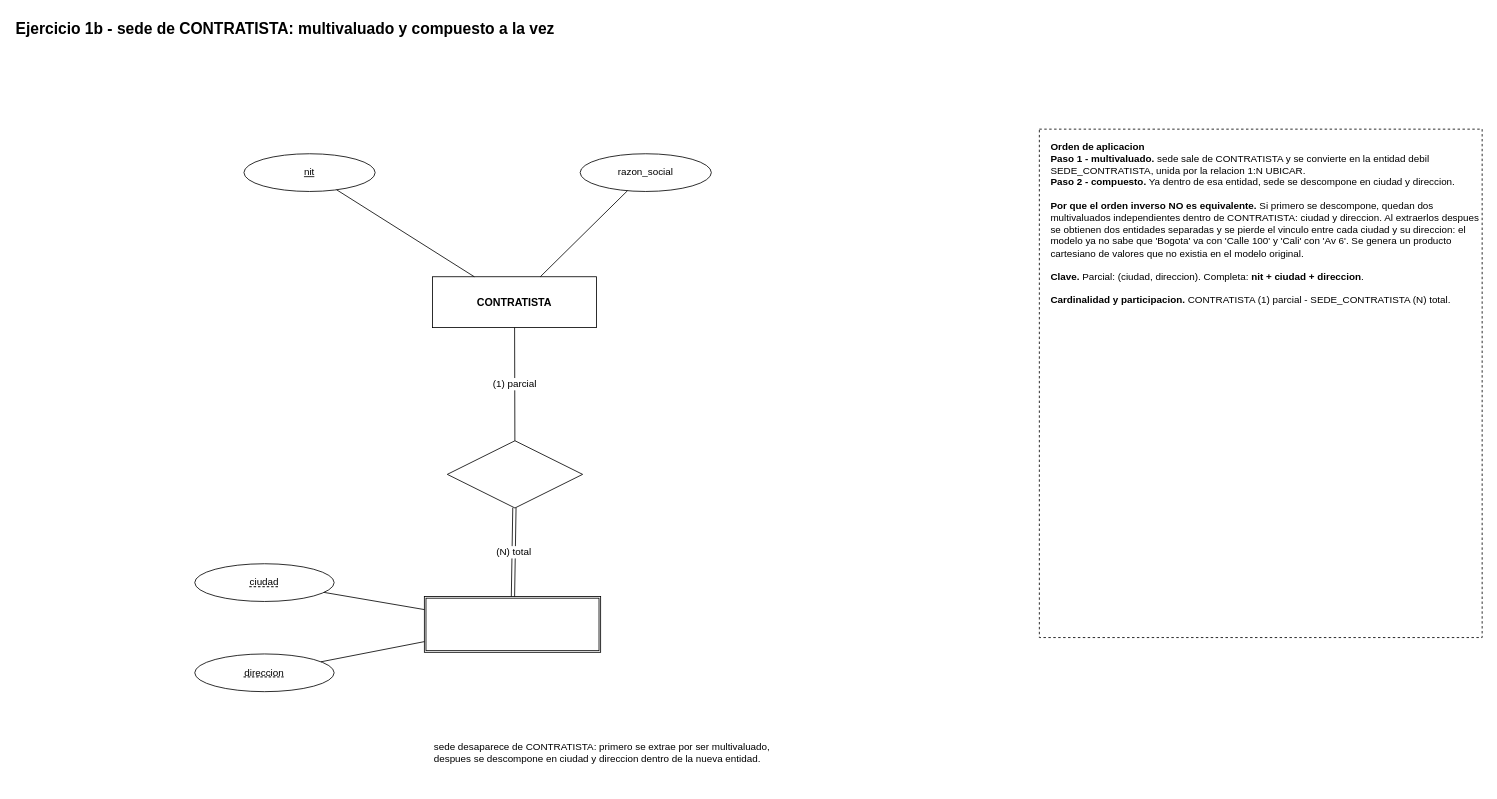
Some shapes in this 1497 by 799 pixel diagram are drawn without their labels. The centre of each missing label's shape, as x and y in pixels:
SEDE_CONTRATISTA: the point at 512,624
UBICAR: the point at 514,474
